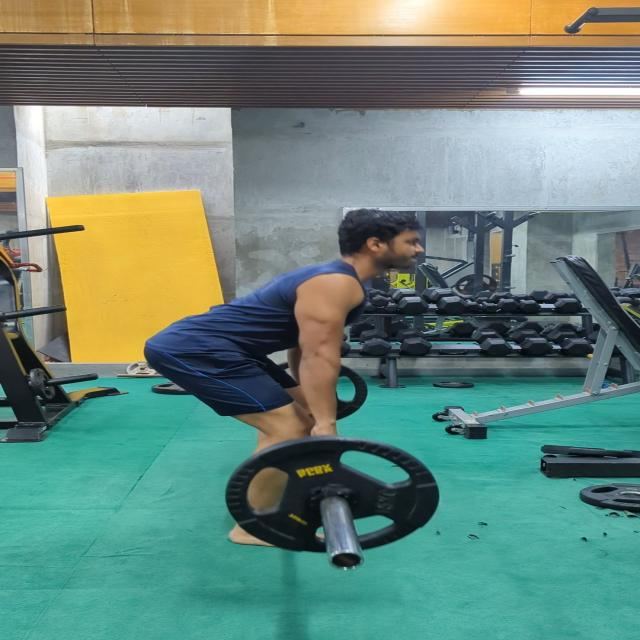Normal_Deadlifts: (141, 208, 427, 548)
